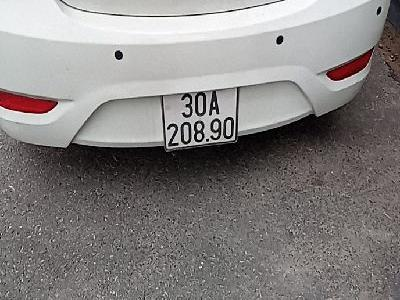car: (159, 85, 241, 153)
